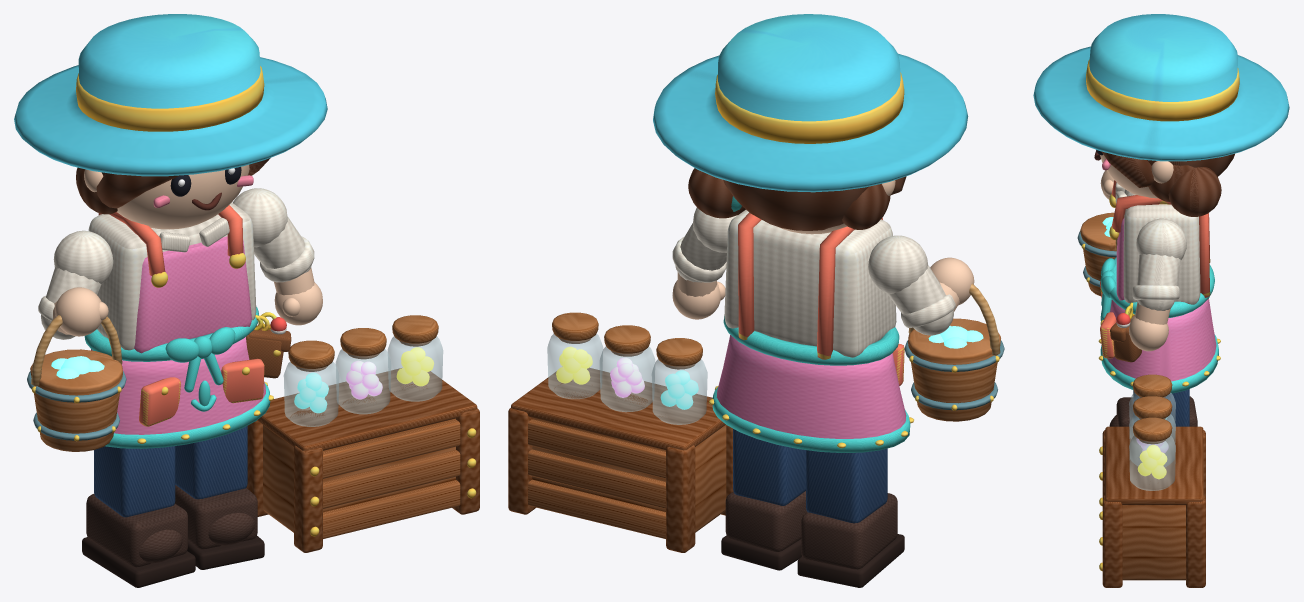
File: lucy.glb
The picture shows the model from 3 angles, left to right: view 1: azimuth 30°, elevation 25°; view 2: azimuth 150°, elevation 25°; view 3: azimuth 270°, elevation 25°; orthographic projection. The views are drawn at different scales.
Visible parts, largest first — view 1: Torso, Head, Props, Legs, Glass_Jars, Glow_Gold_Jar, Glow_Pink_Jar, Glow_Cyan_Jar, Glow_Cyan_Bucket; view 2: Torso, Head, Props, Legs, Glass_Jars, Glow_Gold_Jar, Glow_Cyan_Jar, Glow_Pink_Jar, Glow_Cyan_Bucket; view 3: Head, Torso, Props, Glass_Jars, Legs, Glow_Gold_Jar.
Boxes of the visible parts, left/top/right/bottom form: Torso: left=27, top=188, right=322, bottom=451; Head: left=14, top=14, right=327, bottom=229; Props: left=246, top=315, right=479, bottom=552; Legs: left=82, top=426, right=264, bottom=587; Glass_Jars: left=283, top=336, right=443, bottom=426; Glow_Gold_Jar: left=396, top=347, right=433, bottom=386; Glow_Pink_Jar: left=346, top=360, right=382, bottom=399; Glow_Cyan_Jar: left=294, top=372, right=328, bottom=413; Glow_Cyan_Bucket: left=51, top=356, right=104, bottom=379; Torso: left=672, top=208, right=1004, bottom=452; Head: left=653, top=14, right=968, bottom=234; Props: left=508, top=312, right=733, bottom=552; Legs: left=721, top=429, right=904, bottom=587; Glass_Jars: left=547, top=333, right=707, bottom=424; Glow_Gold_Jar: left=556, top=346, right=592, bottom=384; Glow_Cyan_Jar: left=660, top=370, right=698, bottom=409; Glow_Pink_Jar: left=610, top=357, right=644, bottom=397; Glow_Cyan_Bucket: left=928, top=325, right=983, bottom=348; Head: left=1033, top=14, right=1289, bottom=216; Torso: left=1077, top=170, right=1220, bottom=393; Props: left=1099, top=374, right=1205, bottom=587; Glass_Jars: left=1129, top=392, right=1175, bottom=490; Legs: left=1109, top=389, right=1197, bottom=426; Glow_Gold_Jar: left=1138, top=444, right=1167, bottom=479.
Size of the model in its own units: 4.82 by 5.4 by 2.87.
5 materials, 1 textured.
